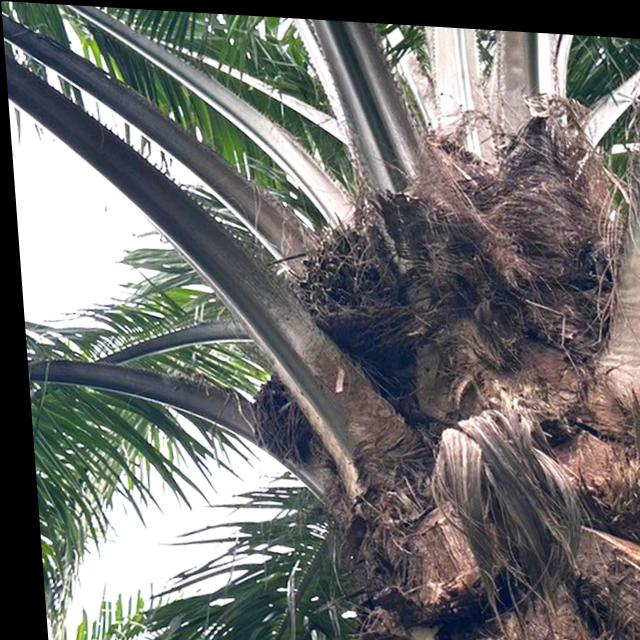unripe: (281, 200, 415, 379)
